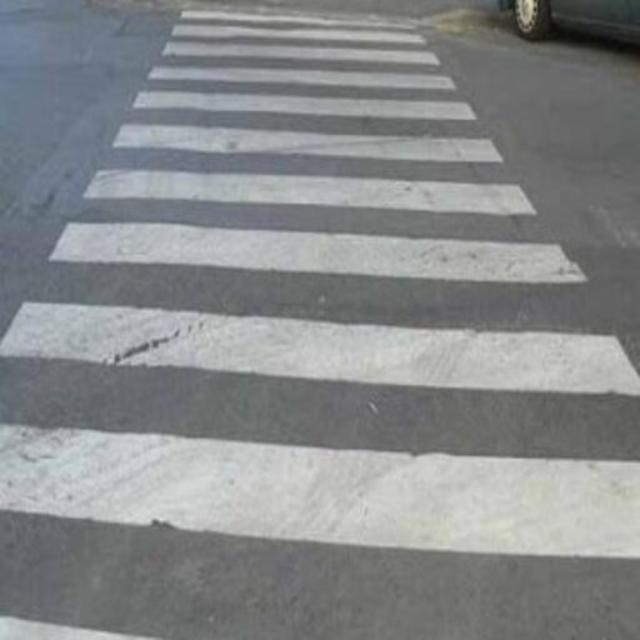sidewalk: (0, 2, 640, 640)
